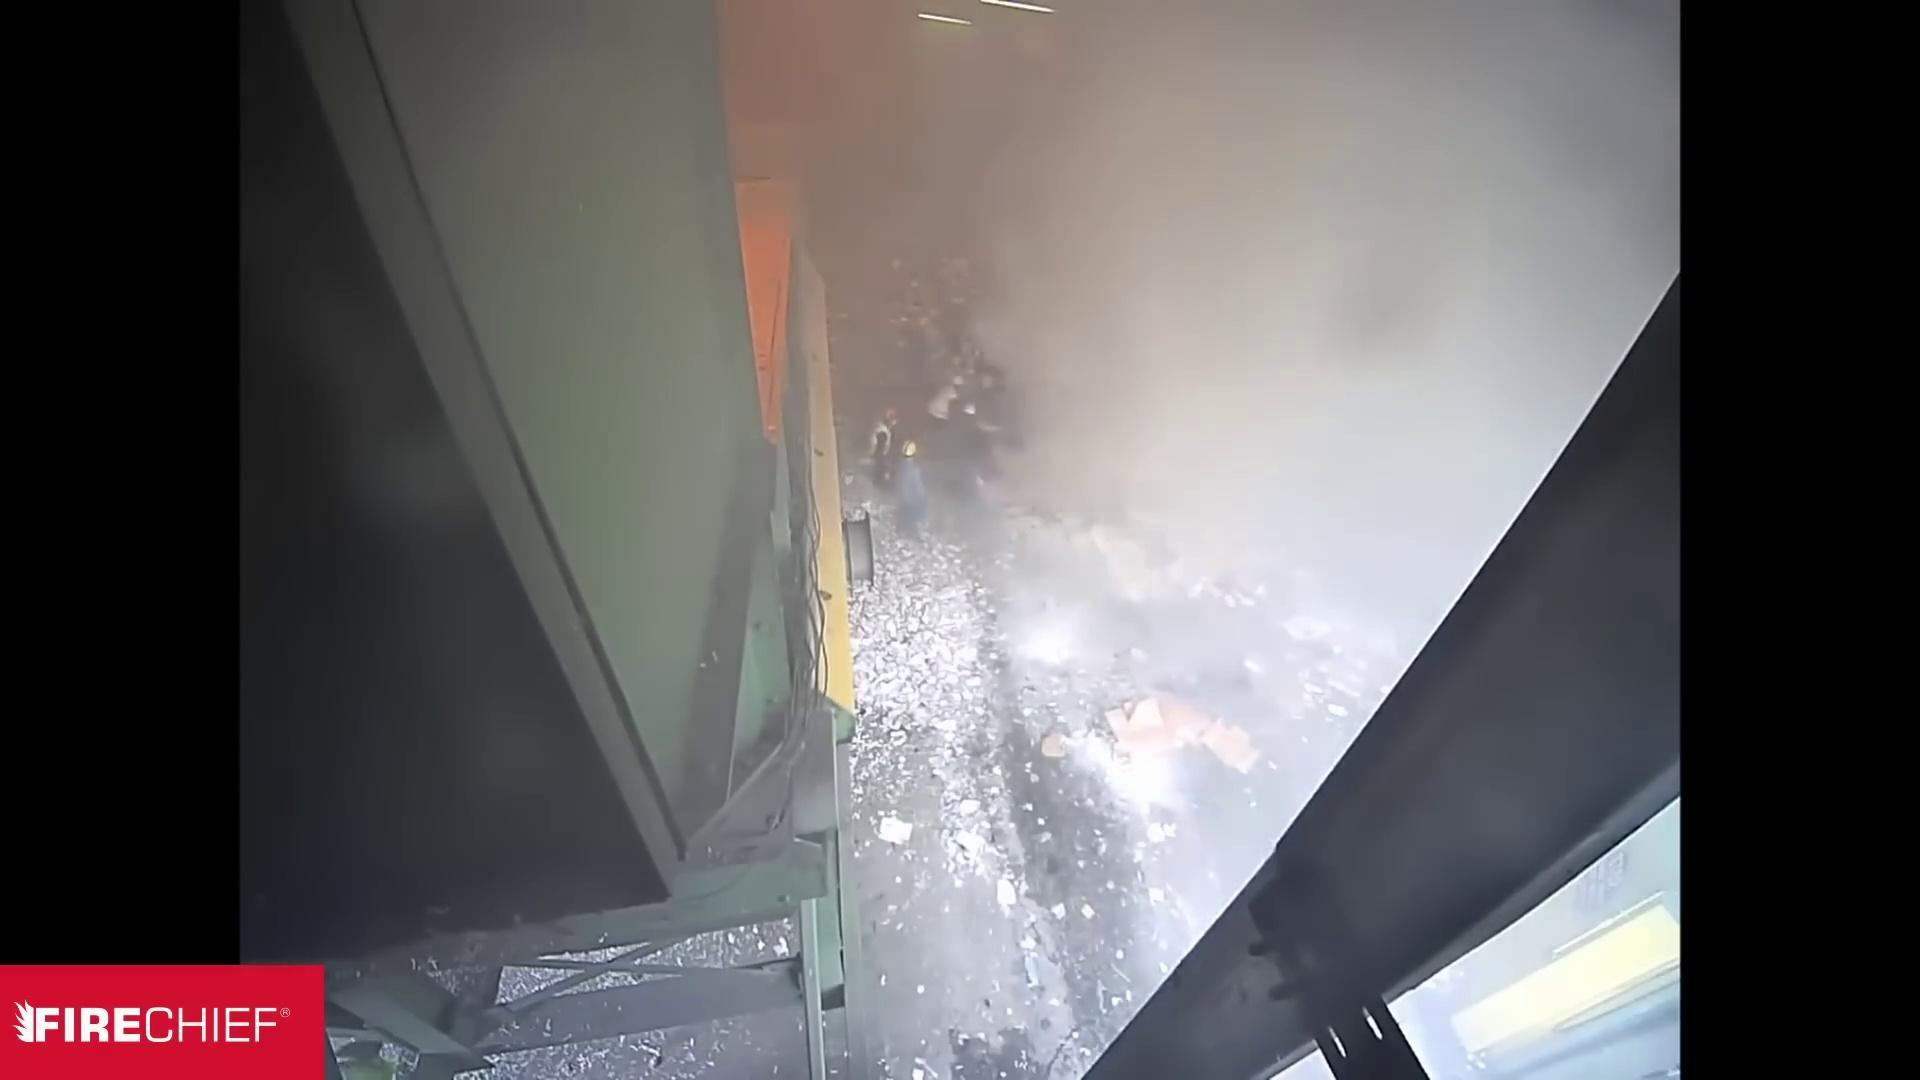smoke: (939, 154, 1440, 725)
